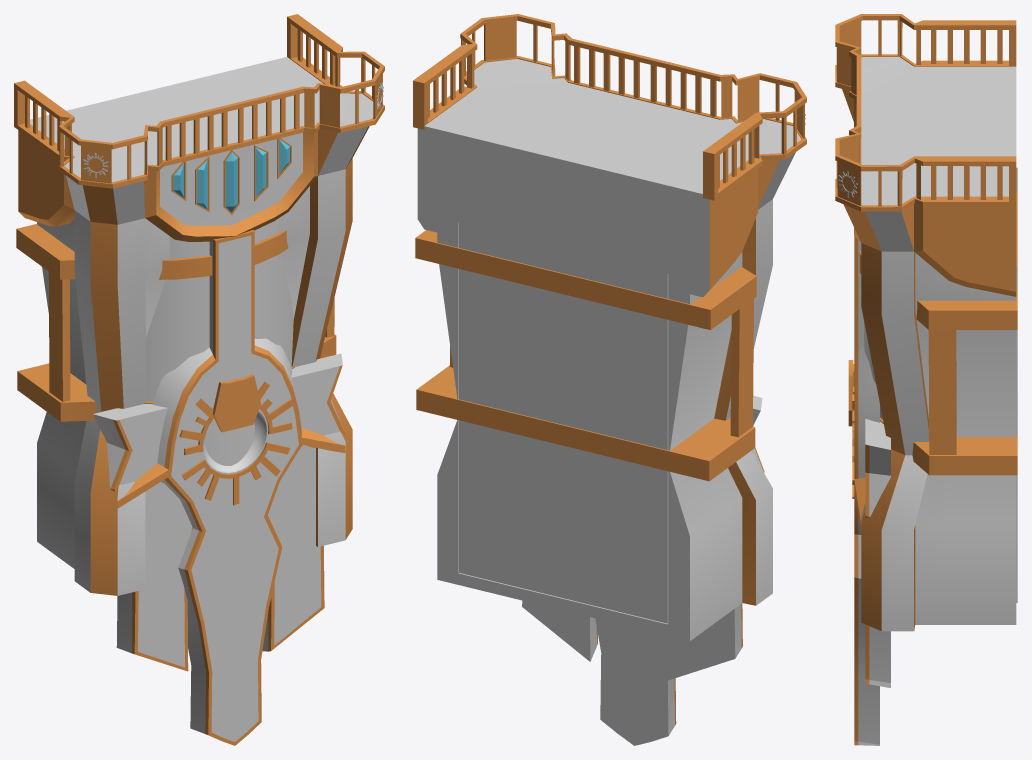
Rendered from prop_Balcony.fbx.
3 views of the same model, side by side, from view 1: azimuth 30°, elevation 25°; view 2: azimuth 150°, elevation 25°; view 3: azimuth 270°, elevation 25° (orthographic). The views are drawn at different scales.
Visible parts, largest first — view 1: prop_Balcony; view 2: prop_Balcony; view 3: prop_Balcony.
Boxes of the visible parts, x1,y1,x2,y2 form: prop_Balcony: (14, 14, 384, 745); prop_Balcony: (413, 14, 806, 745); prop_Balcony: (835, 14, 1017, 745).
Size of the model in its own units: 1279 by 2558 by 646.
